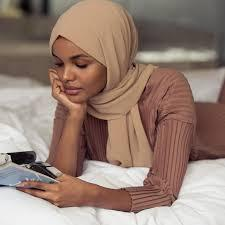No Mask: (43, 29, 129, 119)
